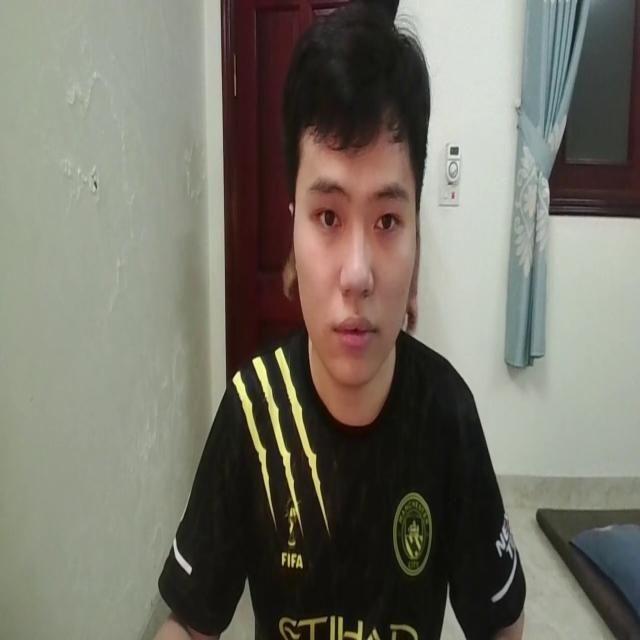student: (155, 10, 526, 640)
